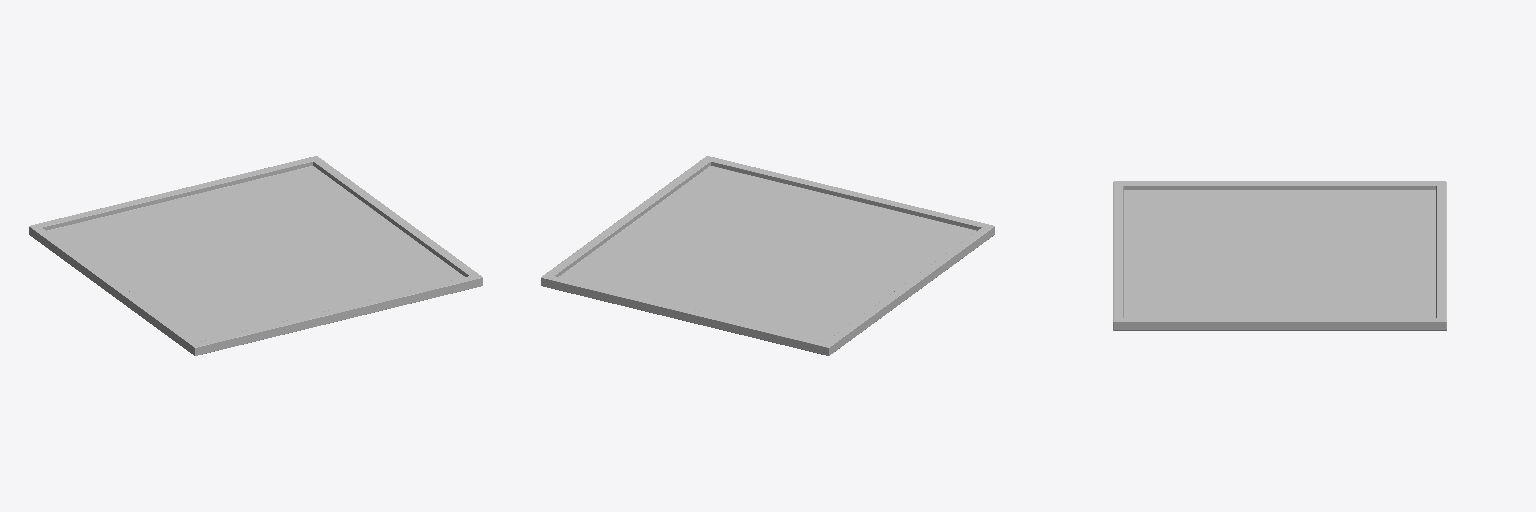
The model's file is Ludo Board.obj.
3 renders of one model, left to right at view 1: azimuth 30°, elevation 25°; view 2: azimuth 150°, elevation 25°; view 3: azimuth 270°, elevation 25°, orthographic.
Parts seen in each view (by area): view 1: pCube1; view 2: pCube1; view 3: pCube1.
Boxes of the visible parts, <box> form: pCube1: <box>29,156,482,355</box>; pCube1: <box>541,156,994,355</box>; pCube1: <box>1113,181,1446,330</box>.
Size of the model in its own units: 24.68 by 0.6968 by 24.68.